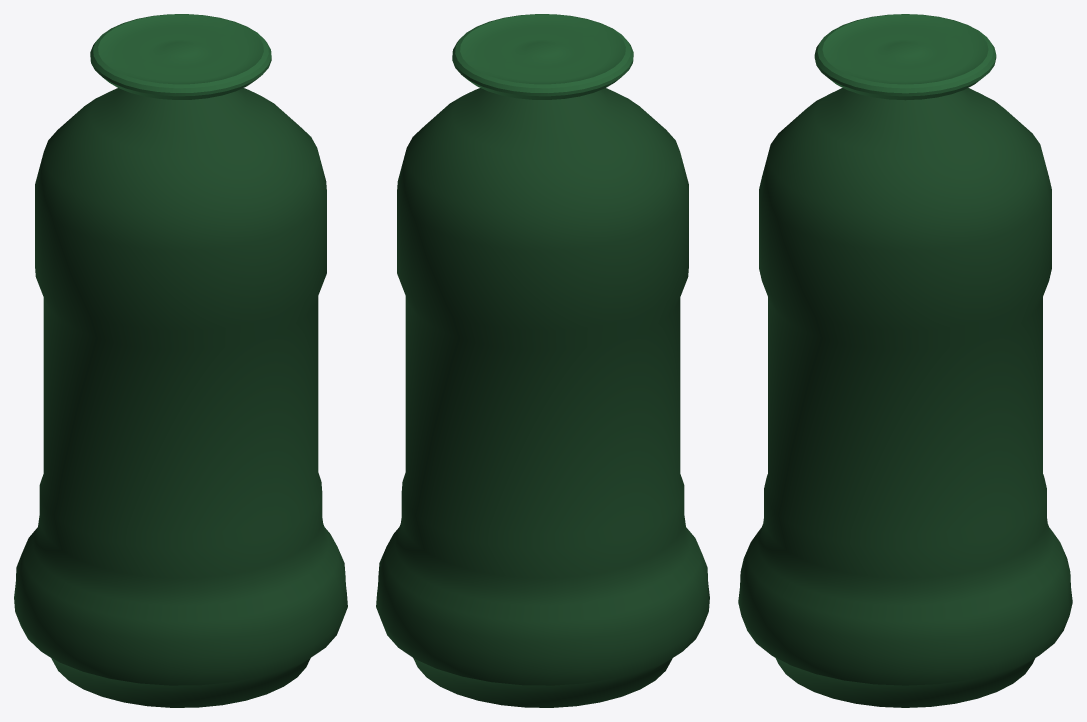
Rendered from bottle26.glb.
The picture shows the model from 3 angles, left to right: view 1: azimuth 30°, elevation 25°; view 2: azimuth 150°, elevation 25°; view 3: azimuth 270°, elevation 25°; orthographic projection.
Visible parts, largest first — view 1: Bottle26; view 2: Bottle26; view 3: Bottle26.
Part boxes in pixels (bbox=[...]): Bottle26: bbox=[14, 14, 347, 707]; Bottle26: bbox=[376, 14, 709, 707]; Bottle26: bbox=[738, 14, 1072, 707].
Bounding box in the file's own units: 2.49 × 4.96 × 2.49.
